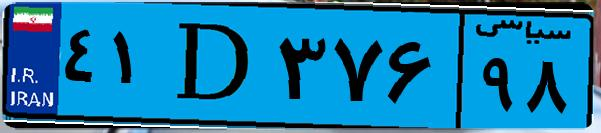1: (110, 28, 158, 98)
3: (270, 28, 330, 110)
4: (57, 26, 110, 100)
6: (385, 28, 445, 110)
7: (330, 28, 385, 110)
8: (525, 38, 570, 115)
9: (475, 38, 525, 113)
D: (158, 12, 270, 120)
